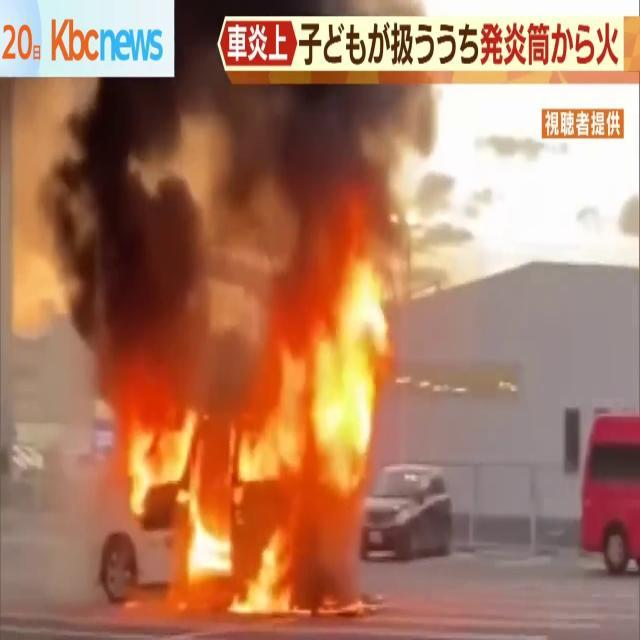Fire: (120, 216, 406, 620)
Smoke: (8, 81, 460, 368)
